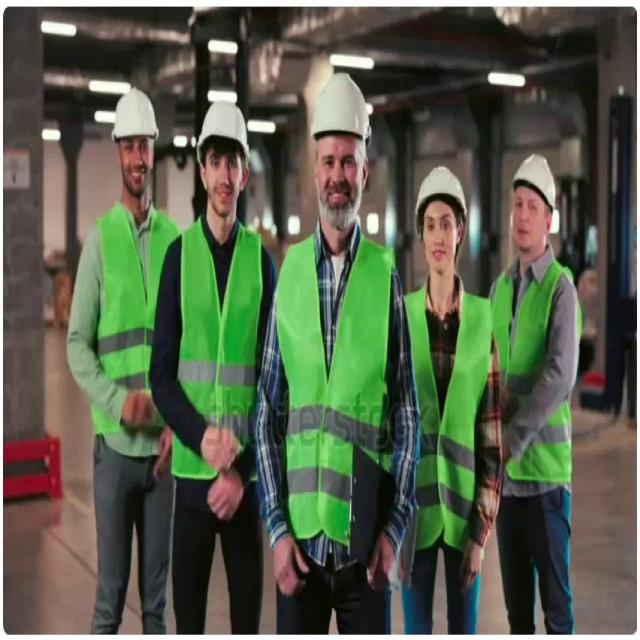not-gloved: (272, 534, 309, 598), (205, 468, 242, 522), (200, 423, 238, 472), (366, 530, 395, 591), (120, 389, 155, 431), (458, 537, 482, 594), (152, 426, 172, 480)
